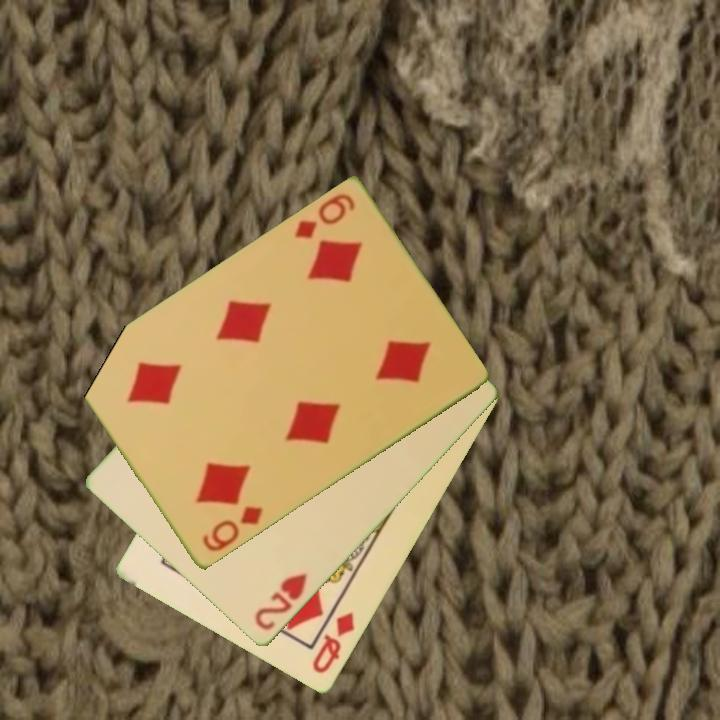2h: (251, 570, 310, 634)
6d: (198, 502, 267, 556), (290, 190, 358, 243)
Qd: (309, 609, 358, 677)
